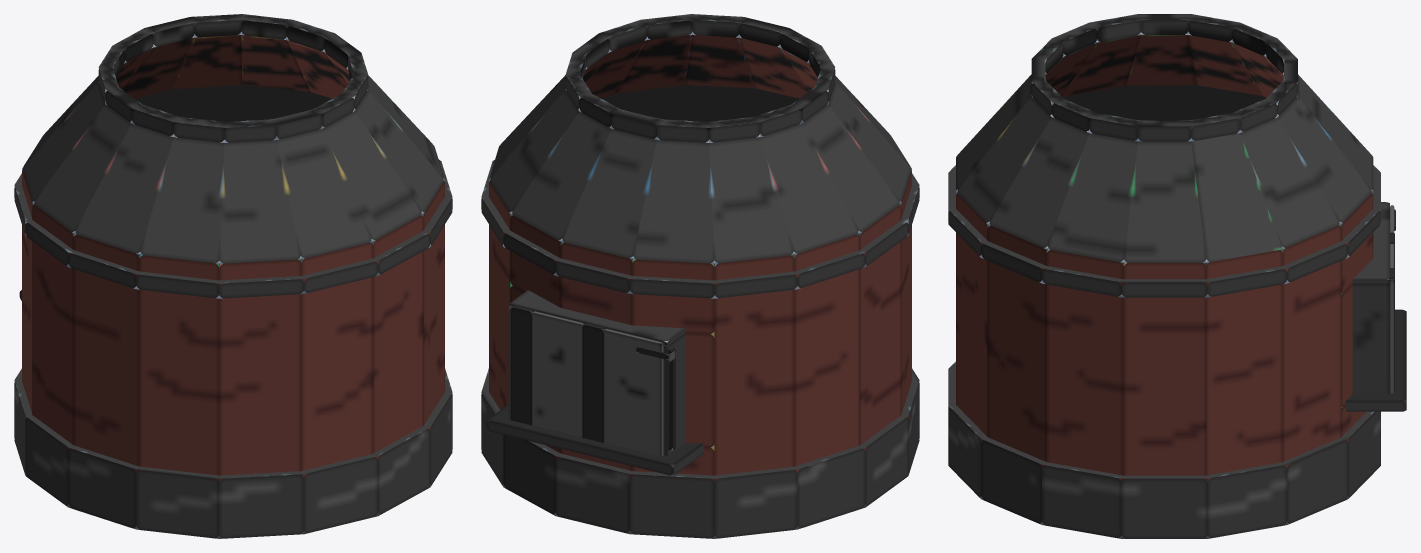
3 views of the same model, side by side, from view 1: azimuth 30°, elevation 25°; view 2: azimuth 150°, elevation 25°; view 3: azimuth 270°, elevation 25° (orthographic).
Visible parts, largest first — view 1: cylinder, rings_connection, things; view 2: rings_connection, cylinder, things, hatch_base; view 3: cylinder, rings_connection, things, hatch_base.
Part boxes in pixels (<box>): cylinder: <box>22,167,444,482</box>; rings_connection: <box>22,14,444,263</box>; things: <box>14,84,452,538</box>; rings_connection: <box>489,14,911,263</box>; cylinder: <box>489,167,911,482</box>; things: <box>481,85,919,538</box>; hatch_base: <box>508,305,663,456</box>; cylinder: <box>956,189,1373,481</box>; rings_connection: <box>956,14,1373,262</box>; things: <box>948,85,1406,538</box>; hatch_base: <box>1389,205,1394,393</box>.
Size of the model in its own units: 1.62 by 1.56 by 1.72.
